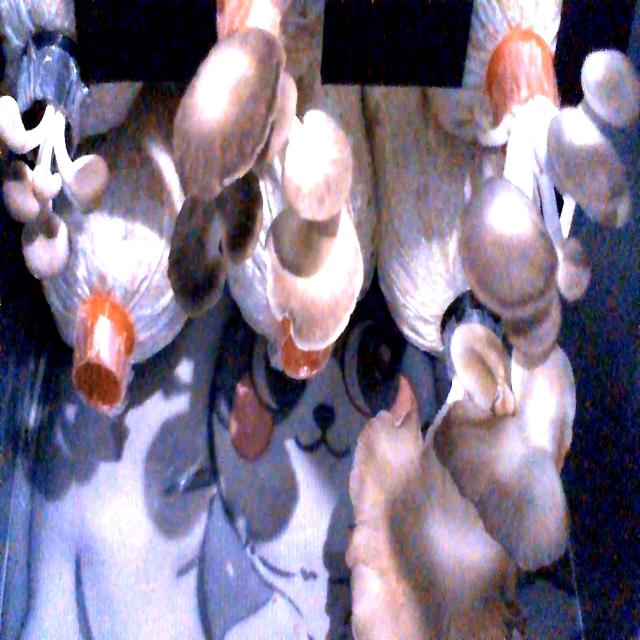big: (144, 36, 374, 382), (349, 326, 585, 637), (442, 52, 640, 325)
nfound: (69, 329, 136, 436), (276, 319, 340, 395)
small: (0, 91, 95, 278)
